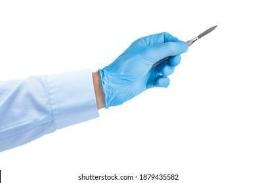scalpel: (153, 25, 219, 67)
